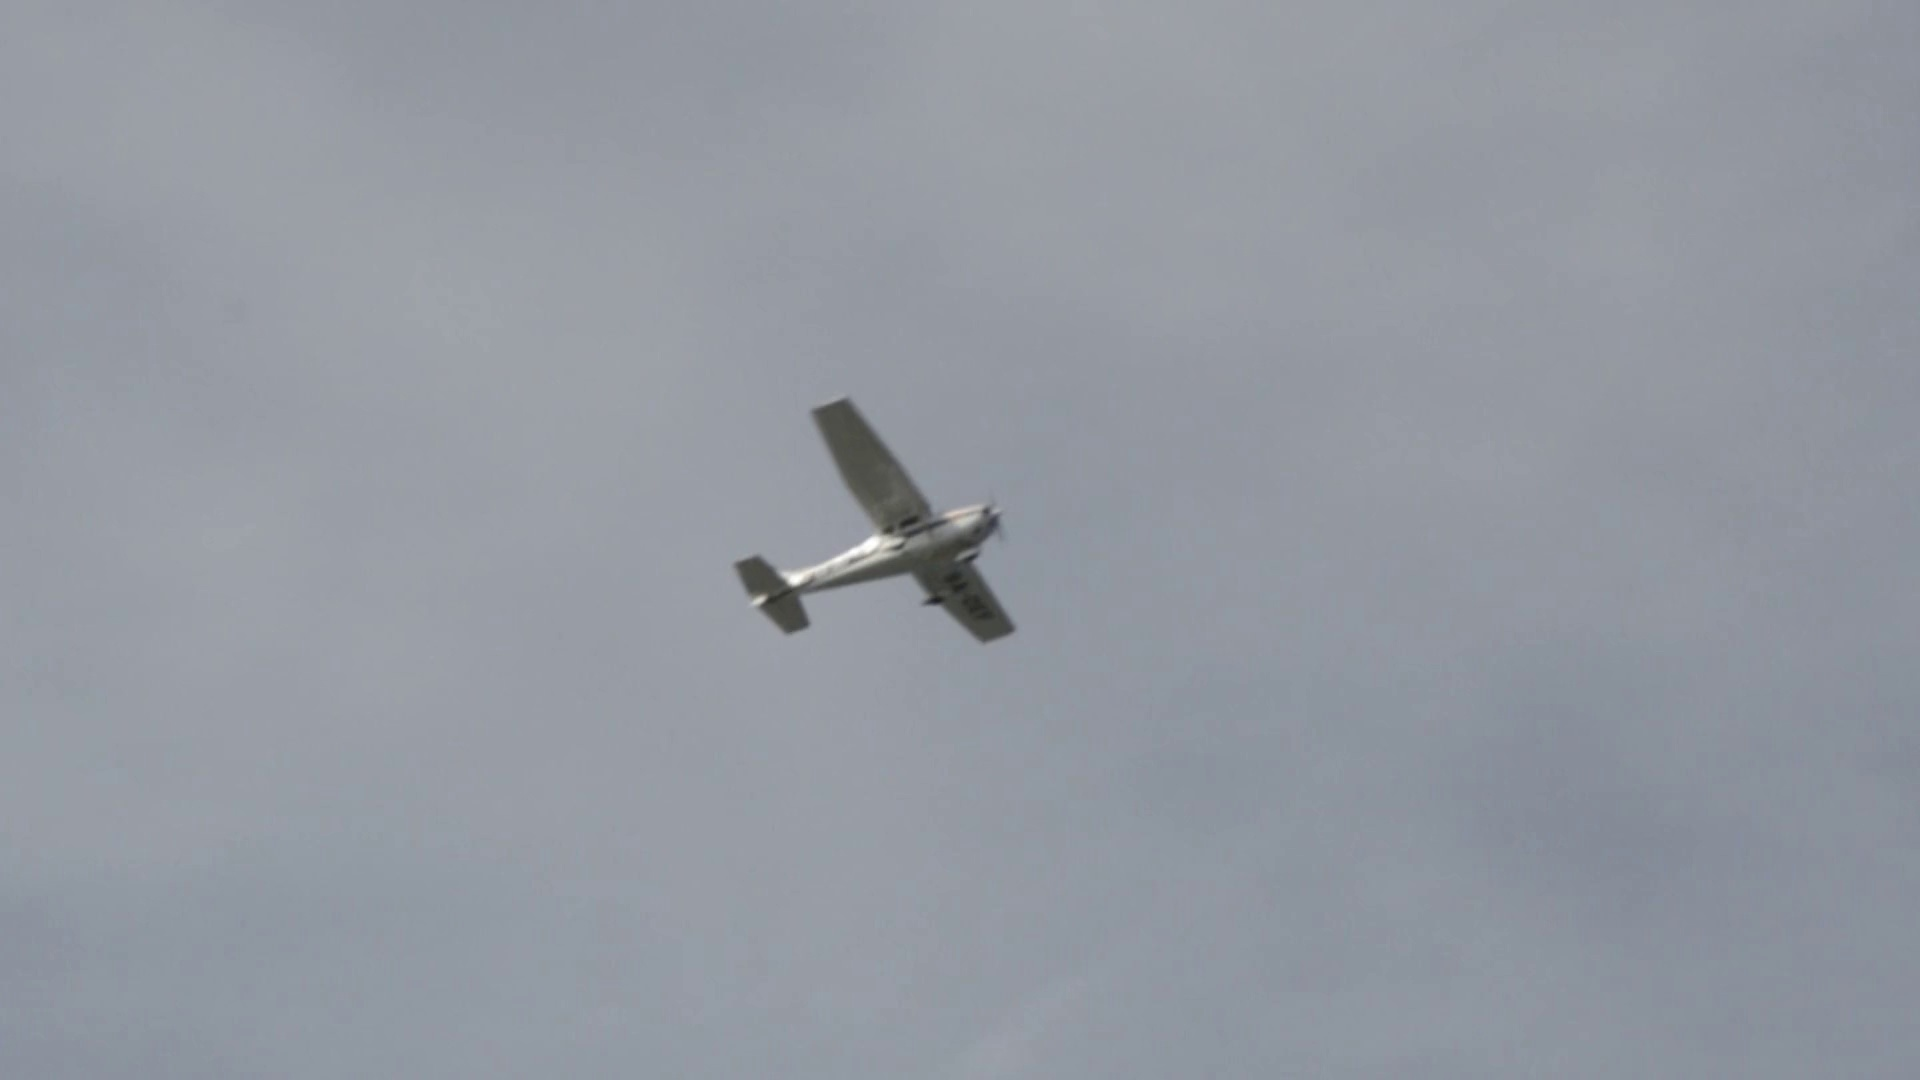plane: (731, 396, 1018, 646)
